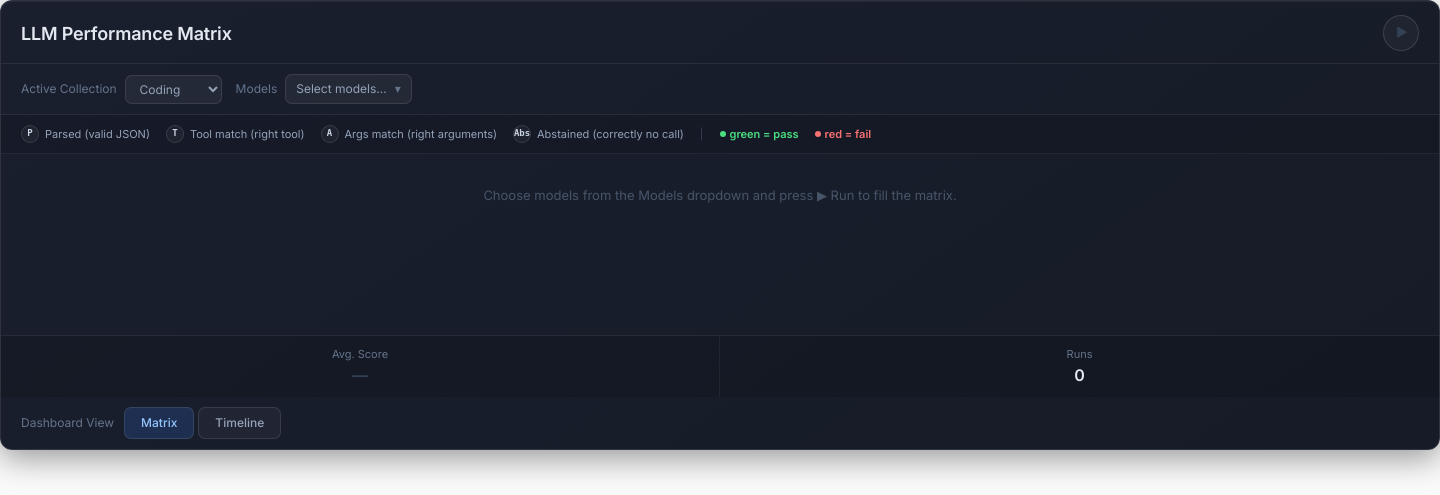
Test: MatrixPanel › loads the active collection and runs a matrix for the toggled models
Expected: the button with test id "matrix-run" is disabled, [1383,15,1419,51]
Click the button with test id "eval-model-dropdown" at (348, 89), box [285,74,412,104]
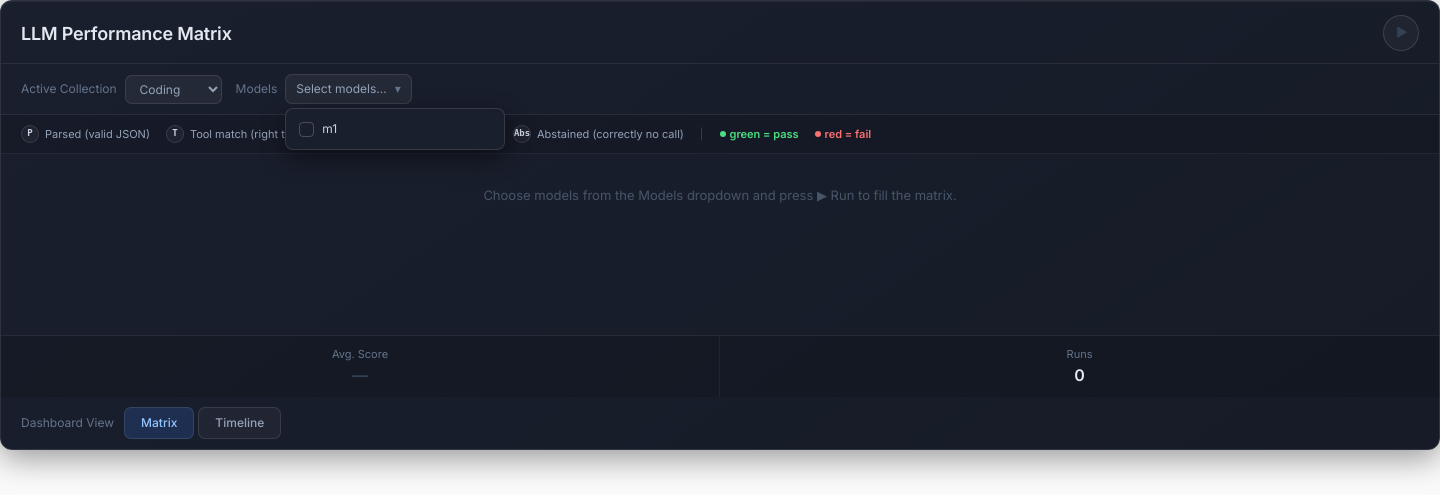
Click the option with test id "eval-model-toggle-m1" at (395, 129), box [290,113,500,145]
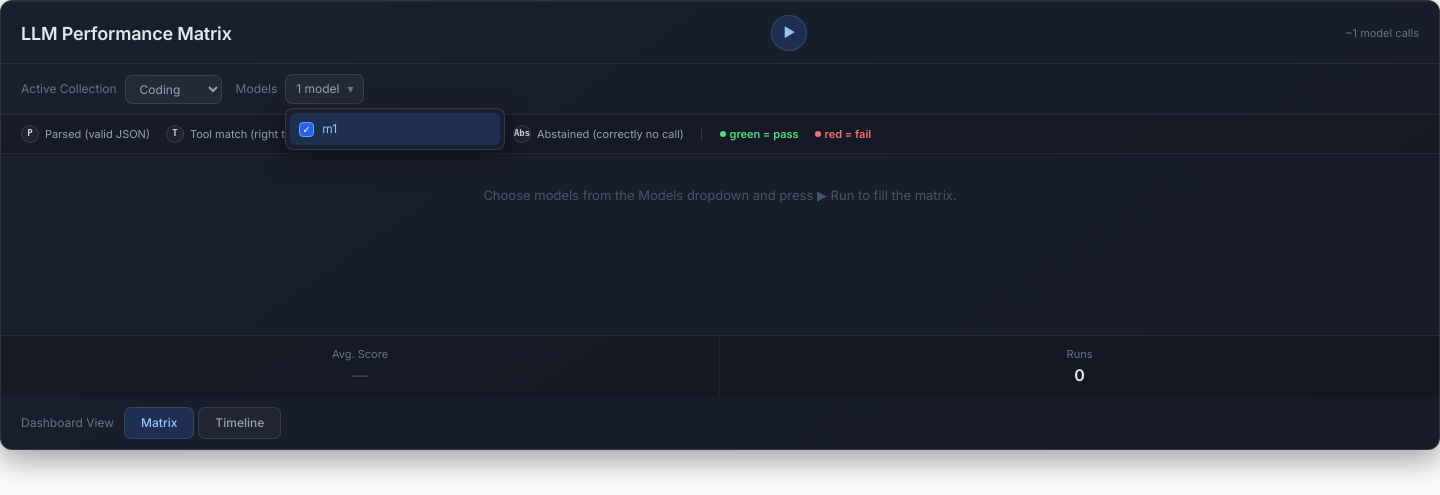
Expected: the button with test id "matrix-run" is enabled
Click the button with test id "matrix-run" at (788, 33), box [770,15,806,51]
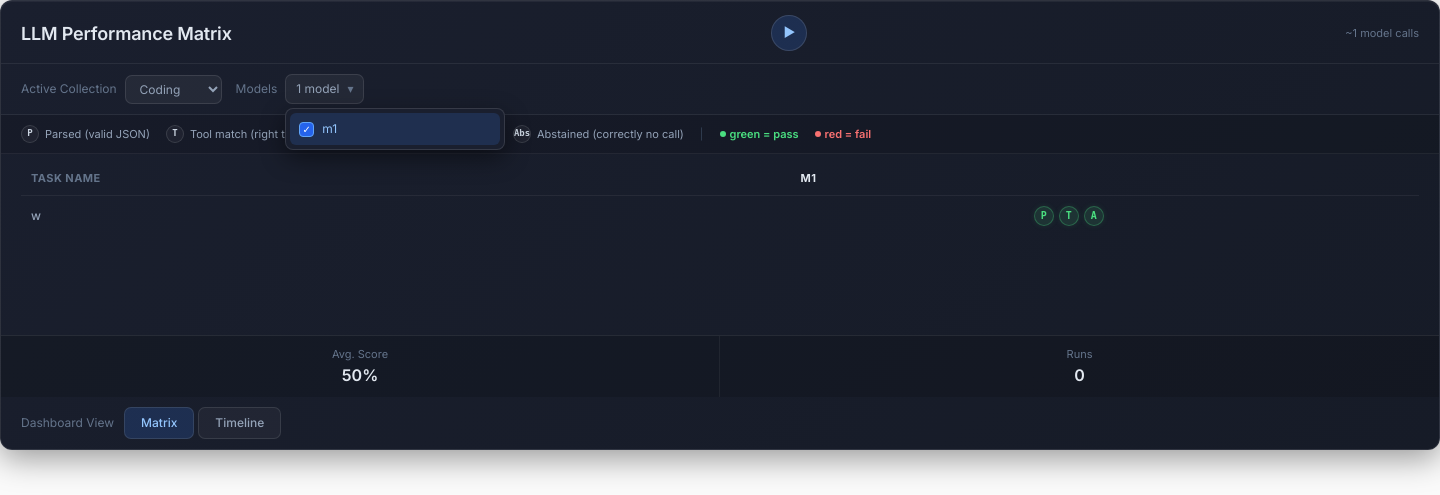
Expected: the cell with test id "eval-matrix-cell-w-m1" is shown, [718,195,1419,236]
